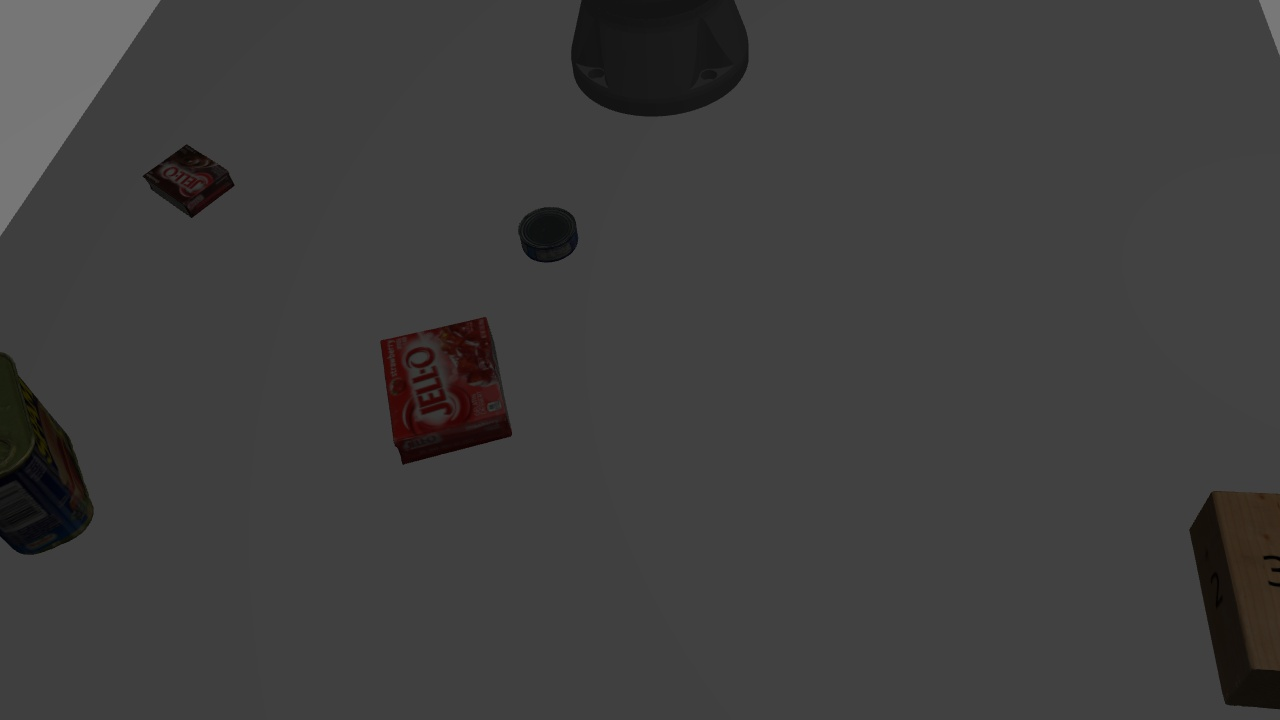gelatin_box: (378, 312, 517, 463)
potted_meat_can: (0, 346, 98, 556)
pudding_box: (138, 139, 238, 216)
tuna_fish_can: (516, 205, 585, 264)
wood_block: (1186, 466, 1276, 705)
